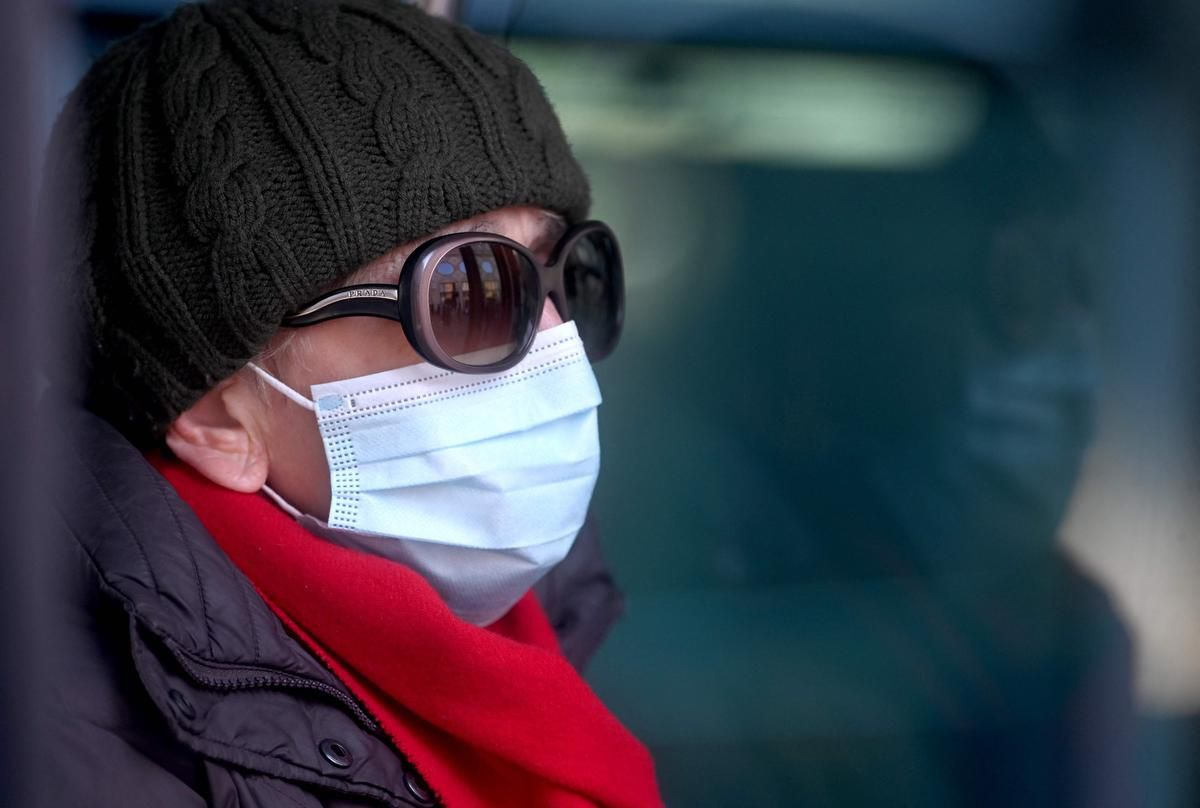Head: (151, 0, 628, 632)
